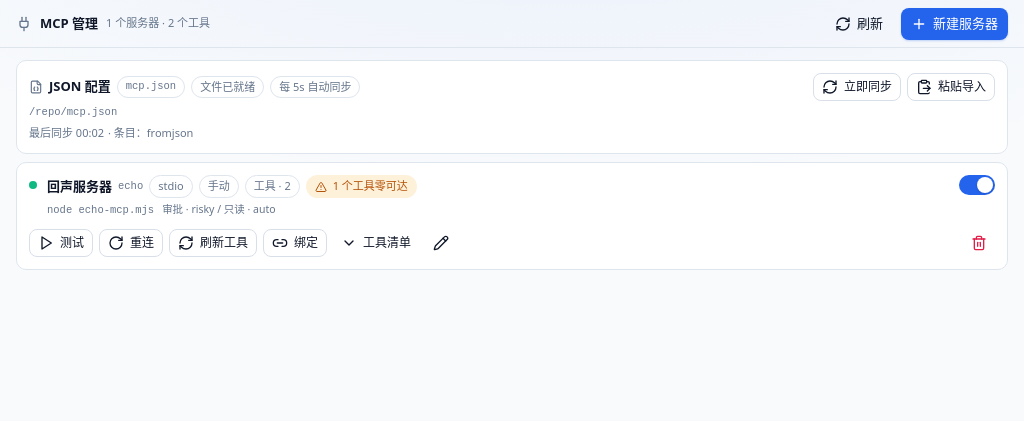
it: M28：来源徽章与 json 只读保护 › 工具清单：deferByDefault=false → 「常驻」徽章；缺省/true → 「按需」徽章
This screenshot has width=1024, height=421.
Expected: the text "回声服务器" is shown, 47,177 -> 112,196
Click the button "工具清单": click(376, 242) 333,228 -> 419,256
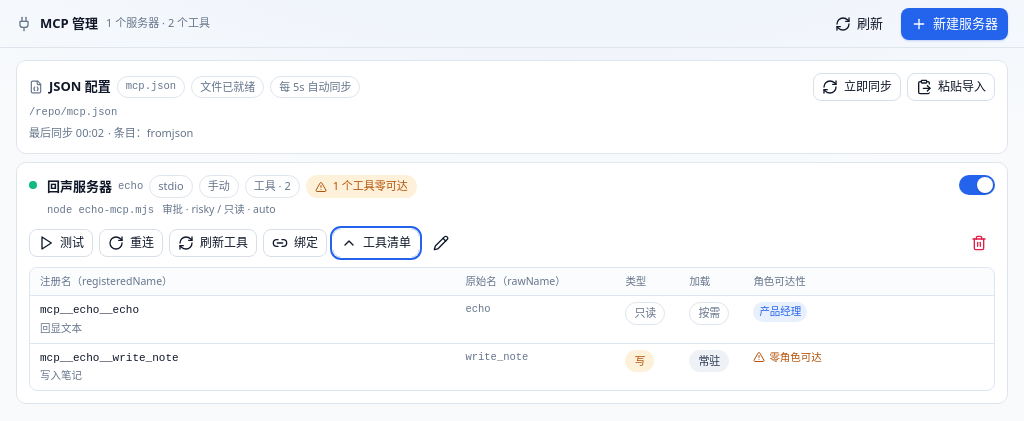
Expected: the text "常驻" is shown, 689,350 -> 729,372
Expected: the text "按需" is shown, 689,302 -> 729,325
